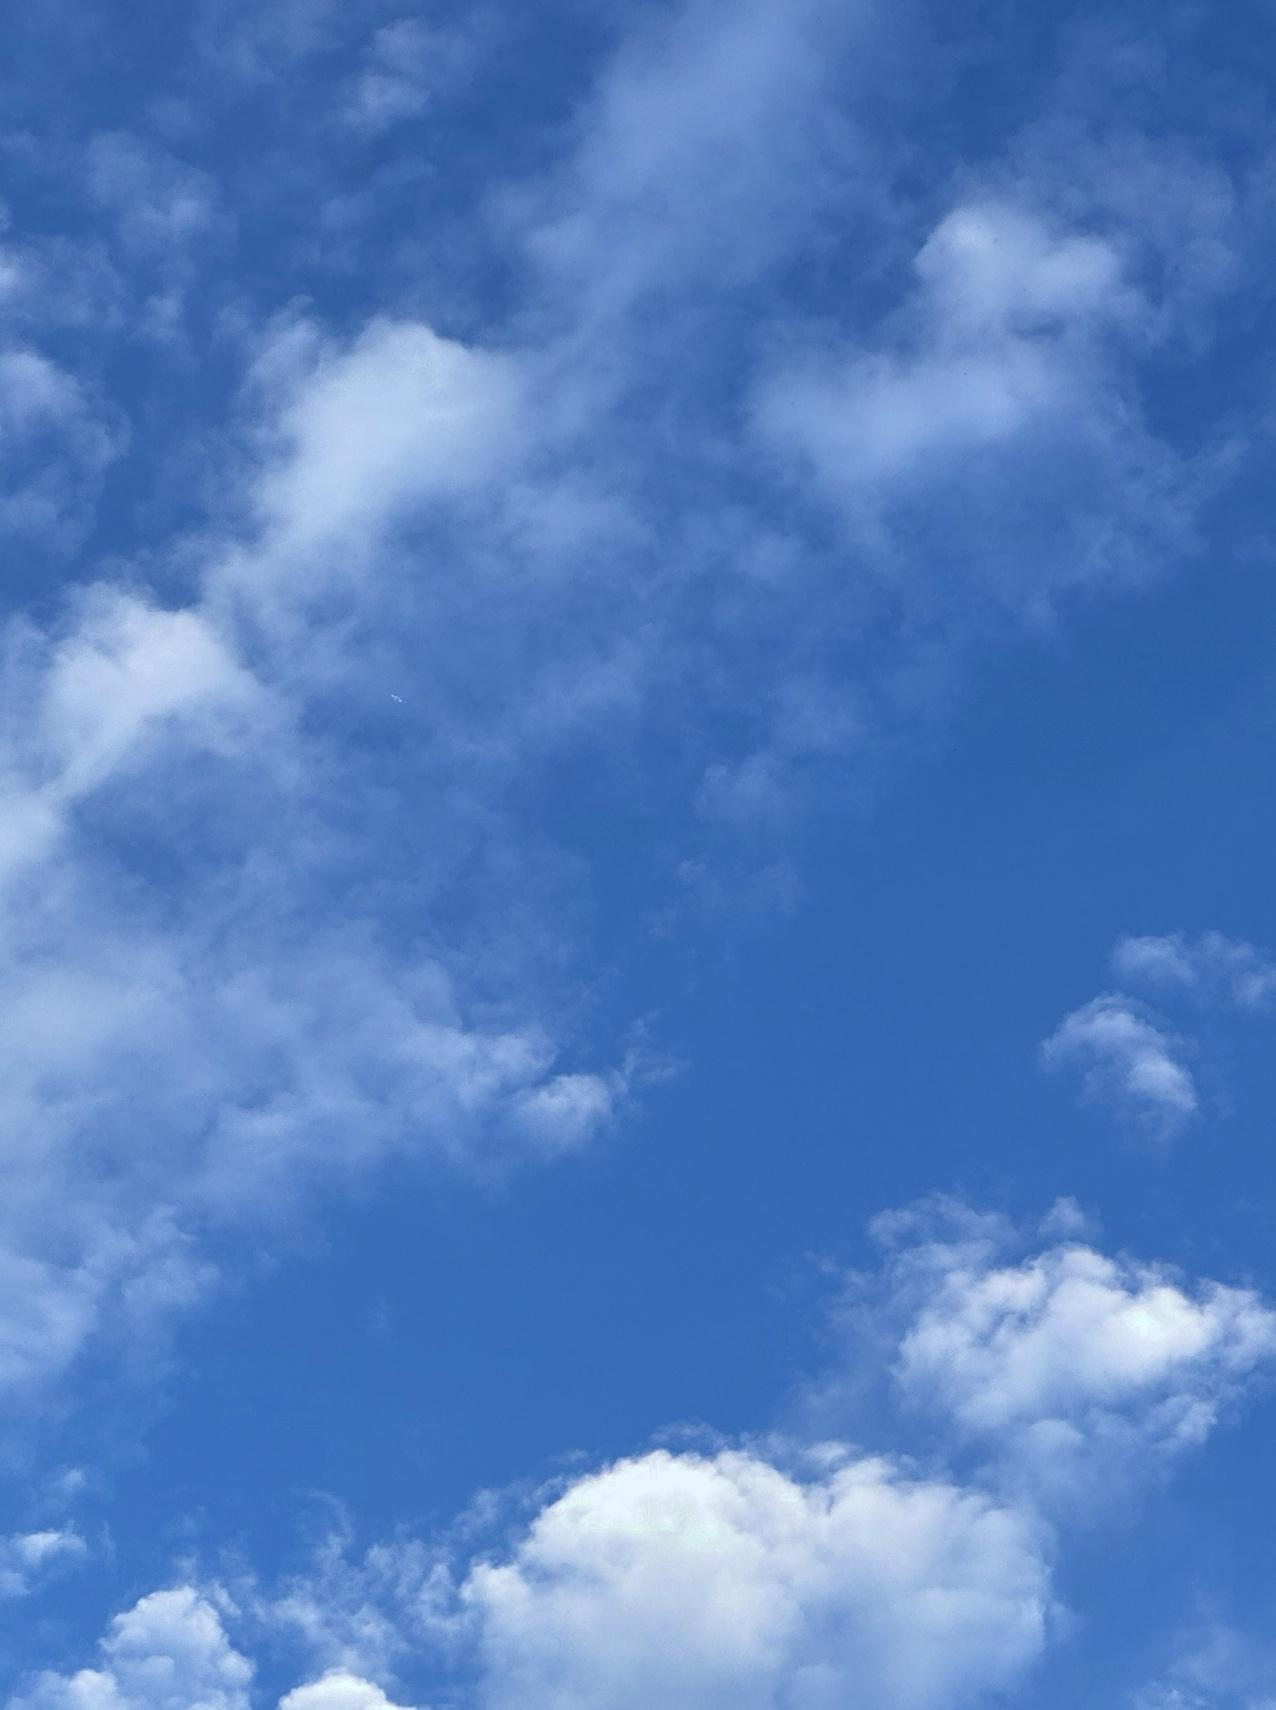Plane: (365, 679, 432, 716)
